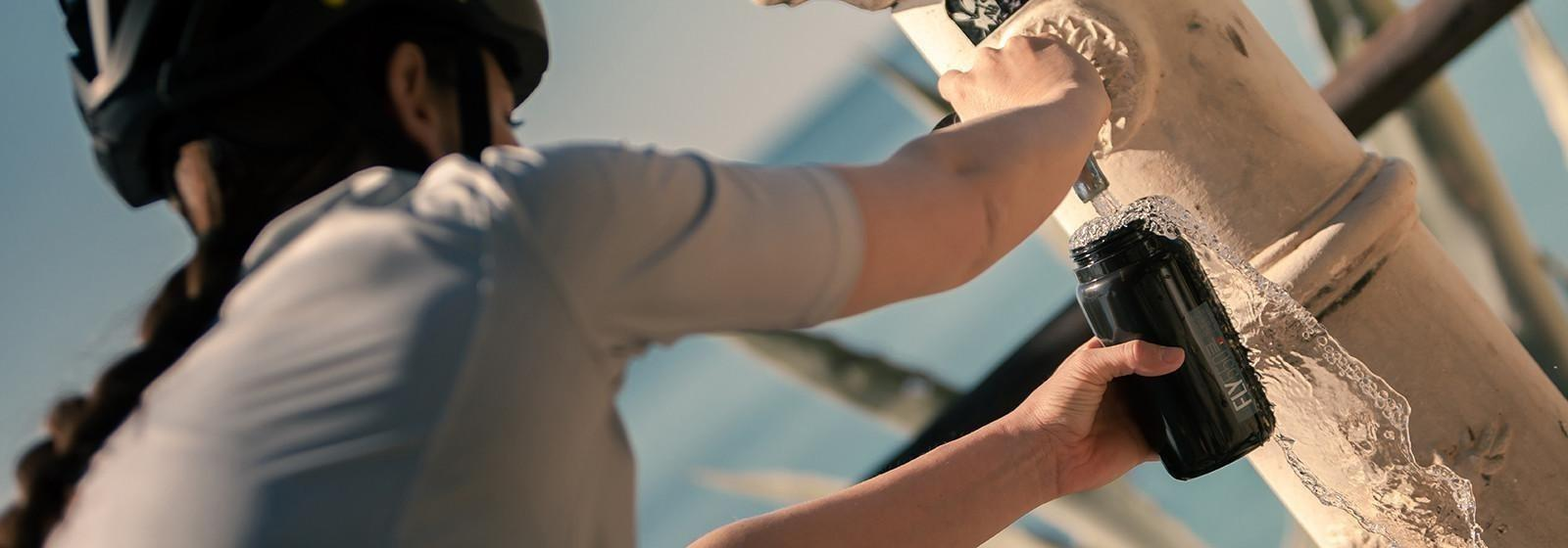gym bottle: (1072, 211, 1277, 480)
